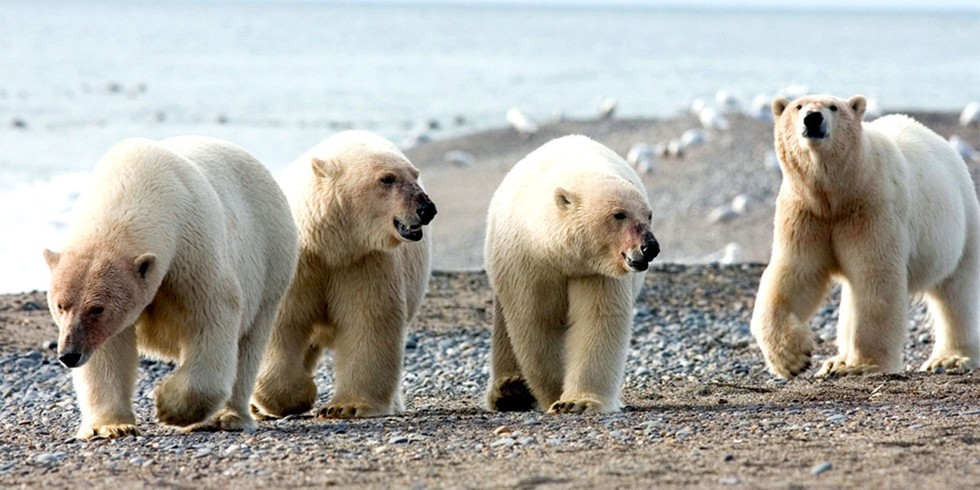Polar Bear: (29, 128, 285, 446), (739, 79, 974, 367), (484, 126, 701, 407), (272, 123, 444, 418)
